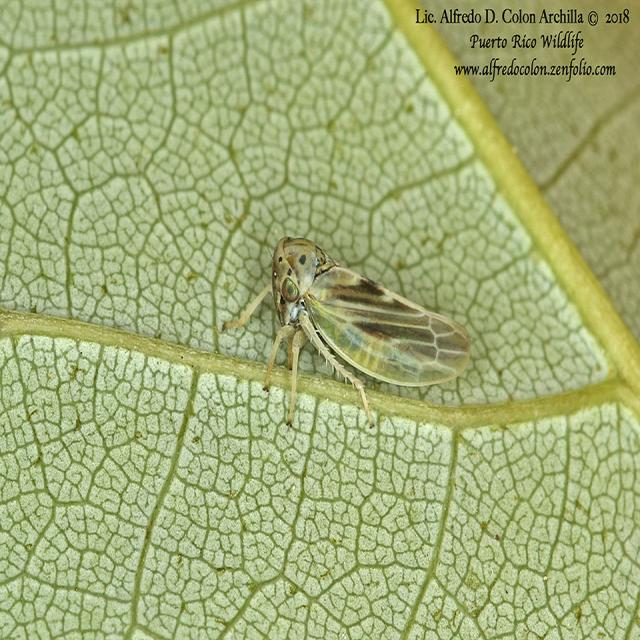Yechan: (214, 224, 468, 419)
